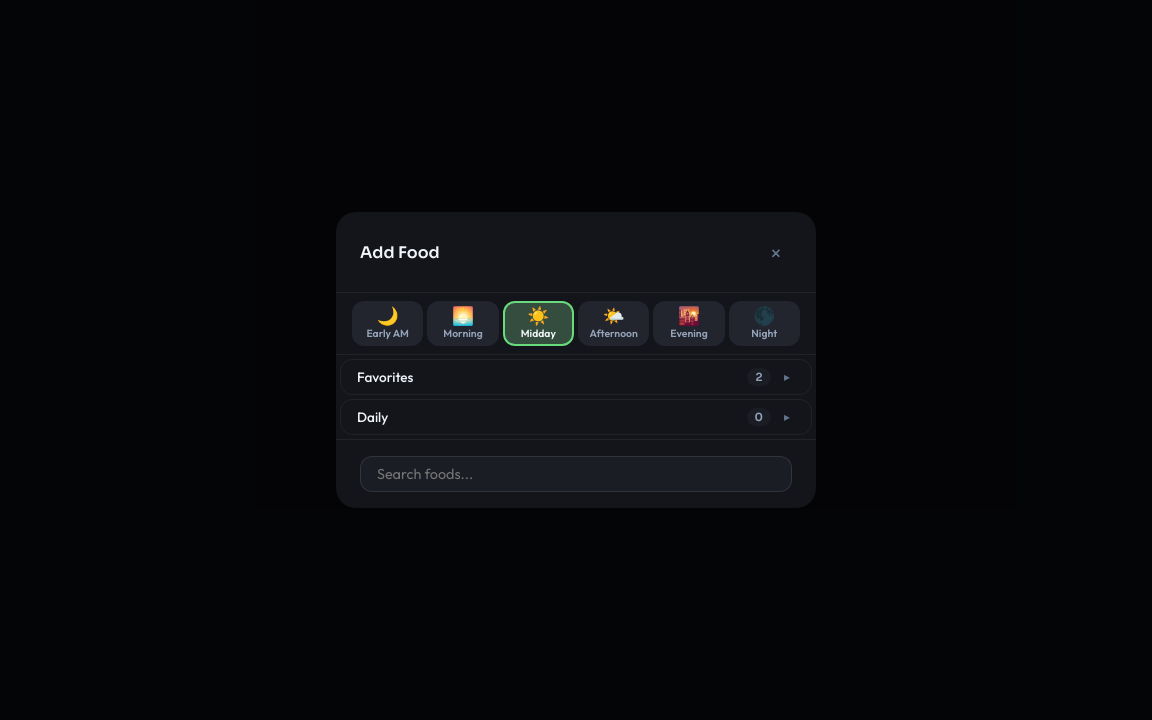
Test: AddFoodModal › clicking a selected food deselects it
This screenshot has width=1152, height=720.
Click the text "Favorites".
click(385, 377)  # box [357,368,414,386]
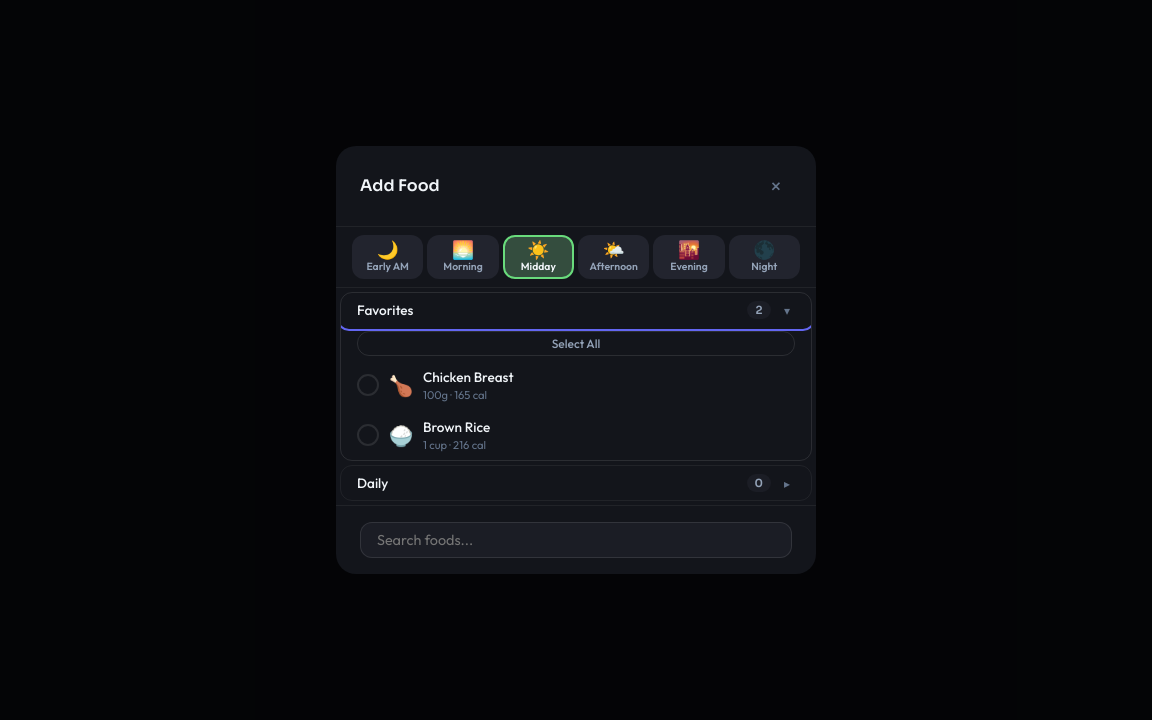
Result: the text "Chicken Breast" is shown
// Select then deselect
Click the text "Chicken Breast".
click(468, 377)  # box [423,368,514,386]
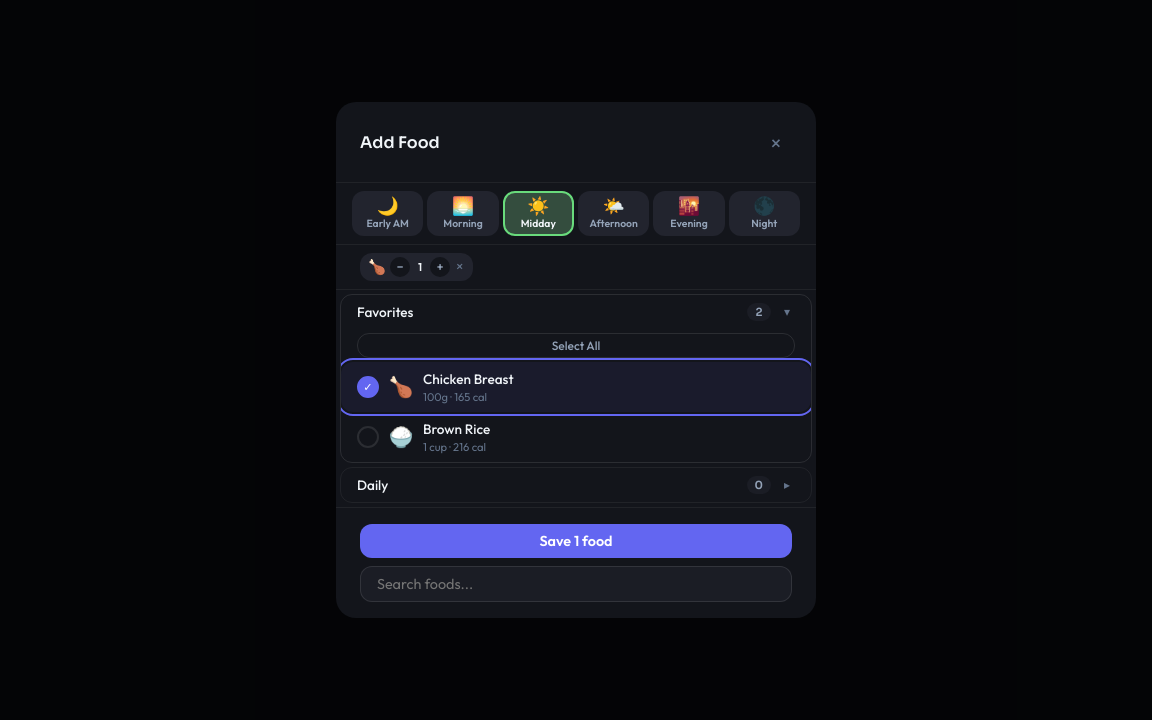
Result: the button "Save 1 food" is shown at [360,524,792,558]
Click the text "Chicken Breast".
click(468, 379)  # box [423,370,514,388]
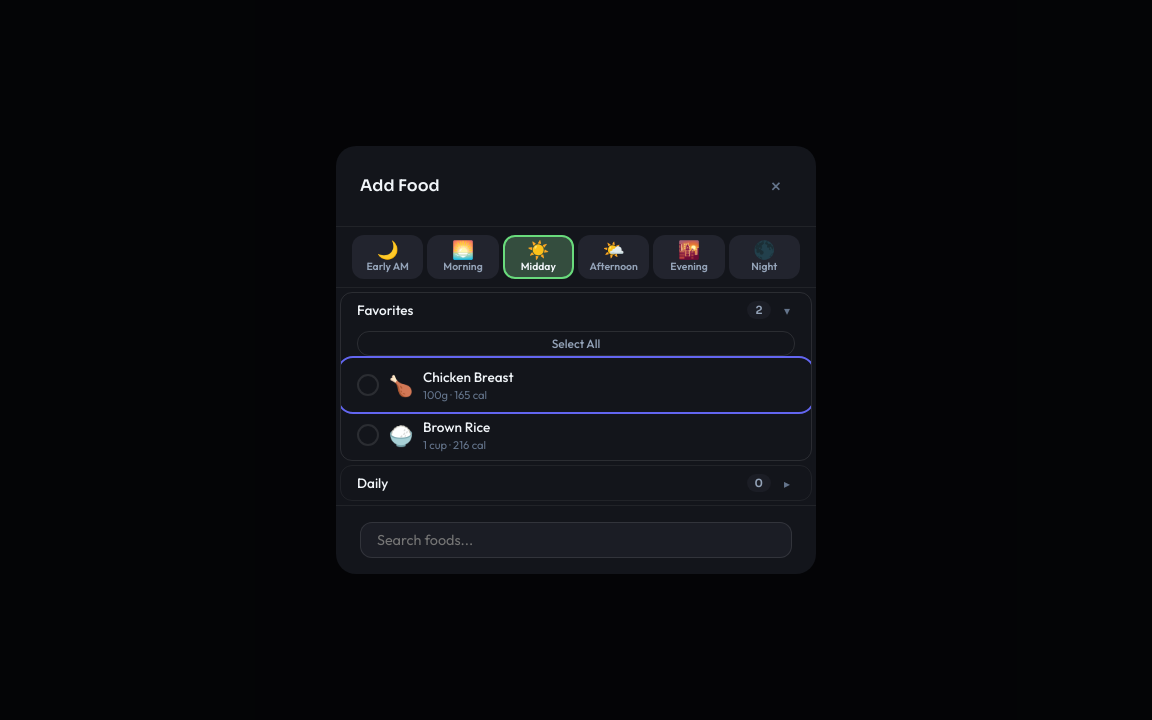
Result: the button "Save" is gone
